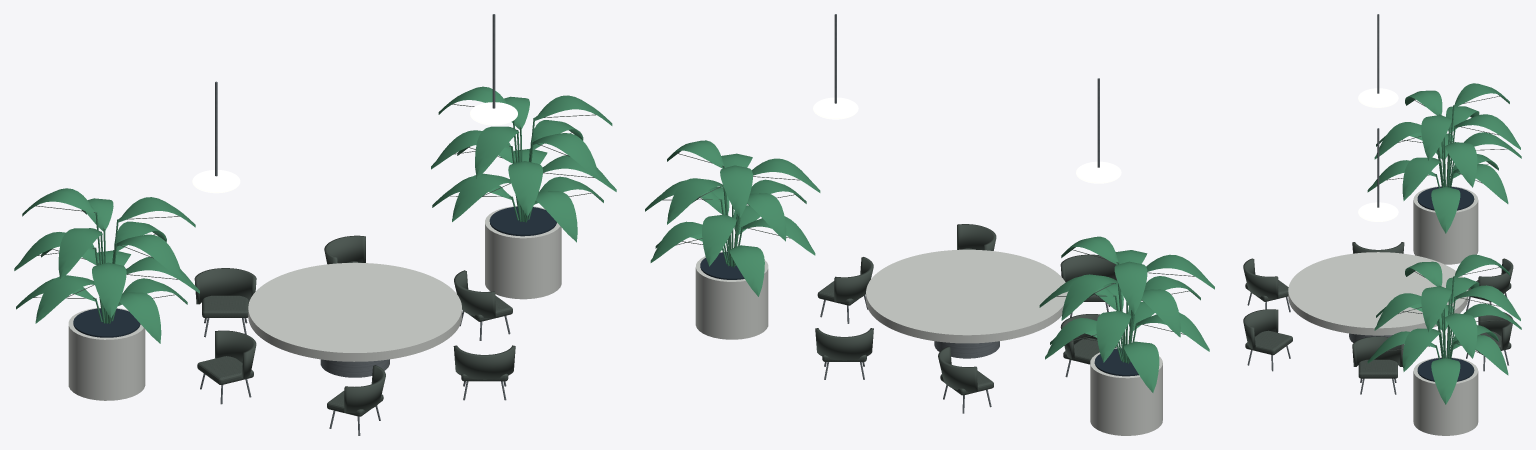
File: community.glb
3 views of the same model, side by side, from view 1: azimuth 30°, elevation 25°; view 2: azimuth 150°, elevation 25°; view 3: azimuth 270°, elevation 25° (orthographic). The views are drawn at different scales.
Visible parts, largest first — view 1: Static_community; view 2: Static_community; view 3: Static_community.
Boxes of the visible parts, x1,y1,x2,y2 form: Static_community: (14, 14, 616, 435); Static_community: (645, 14, 1214, 435); Static_community: (1243, 14, 1521, 435).
Size of the model in its own units: 12.47 by 6.5 by 6.19.
Materials: 6 (2 with a texture image).
